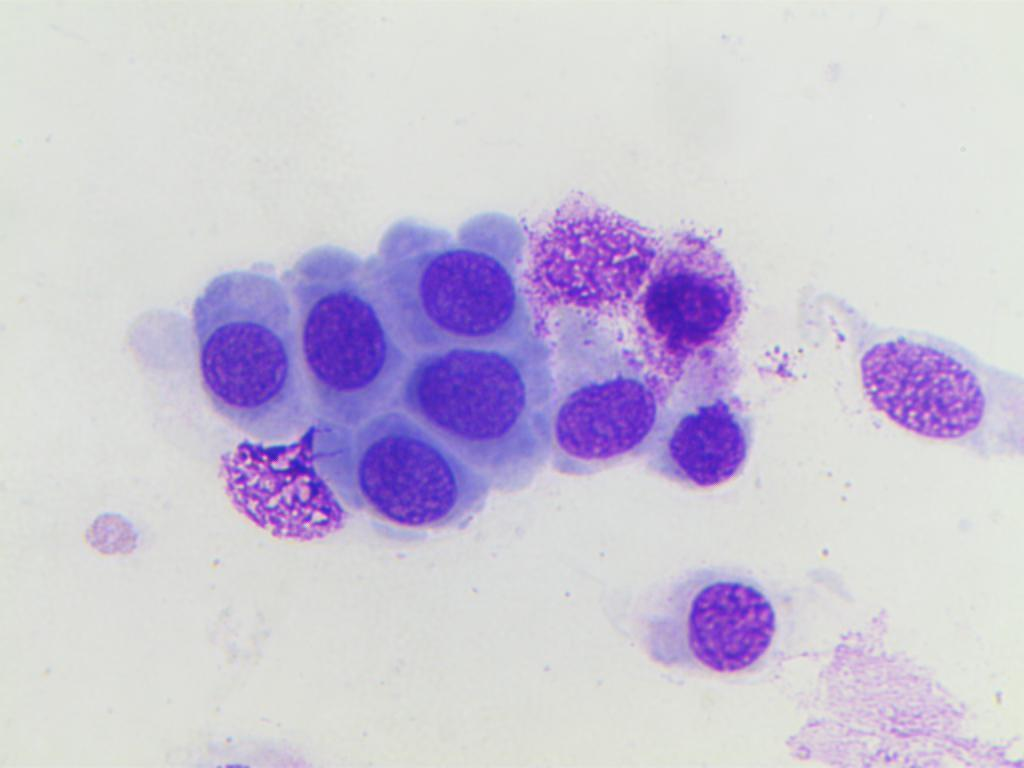artifact: (522, 190, 647, 340), (202, 420, 349, 543)
epithelial: (829, 316, 992, 460), (620, 547, 783, 691), (180, 269, 293, 424), (281, 241, 380, 398), (350, 430, 469, 537), (402, 231, 515, 341), (398, 343, 528, 437), (540, 367, 654, 465), (655, 392, 754, 493)
mast_cell: (639, 223, 746, 363)
